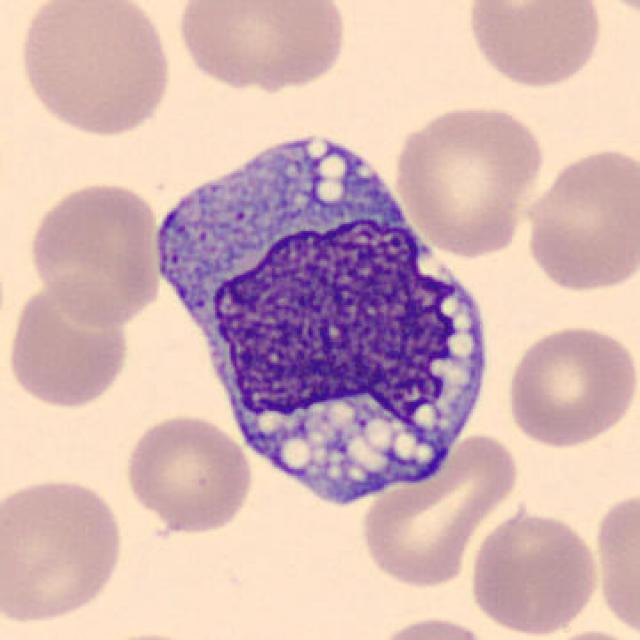Monocyte: (148, 108, 502, 516)
RBC: (356, 427, 524, 590), (390, 100, 548, 258), (14, 0, 176, 139), (23, 176, 165, 328), (0, 472, 128, 628), (519, 139, 638, 296), (4, 274, 135, 414), (466, 502, 602, 636), (502, 321, 638, 451), (121, 411, 256, 536), (172, 0, 351, 93), (462, 0, 606, 92), (590, 485, 640, 640), (370, 612, 500, 640)
